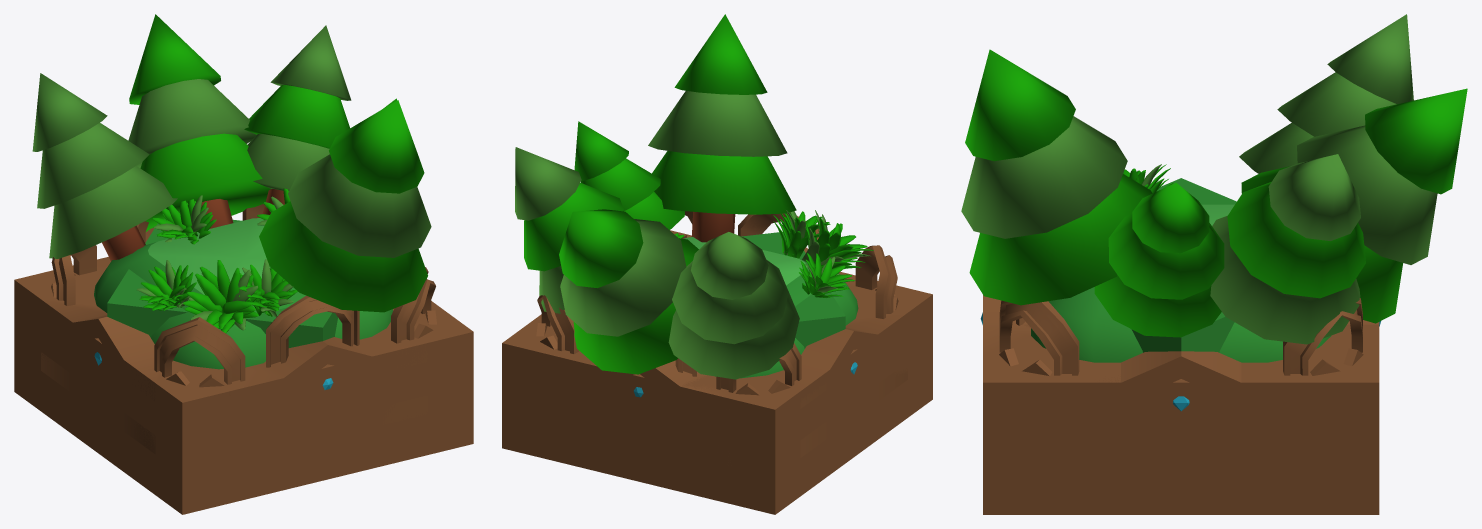
The model's file is Tile_forest.fbx.
The picture shows the model from 3 angles, left to right: view 1: azimuth 30°, elevation 25°; view 2: azimuth 150°, elevation 25°; view 3: azimuth 270°, elevation 25°; orthographic projection. The views are drawn at different scales.
Parts seen in each view (by area): view 1: Cube.008, Cube; view 2: Cube.008, Cube; view 3: Cube.008, Cube.
Boxes of the visible parts, <box> form: Cube.008: <box>32,14,446,454</box>; Cube: <box>14,219,473,514</box>; Cube.008: <box>515,14,910,457</box>; Cube: <box>502,230,932,514</box>; Cube.008: <box>961,14,1467,411</box>; Cube: <box>983,178,1379,514</box>.
Size of the model in its own units: 208 by 236 by 255.
